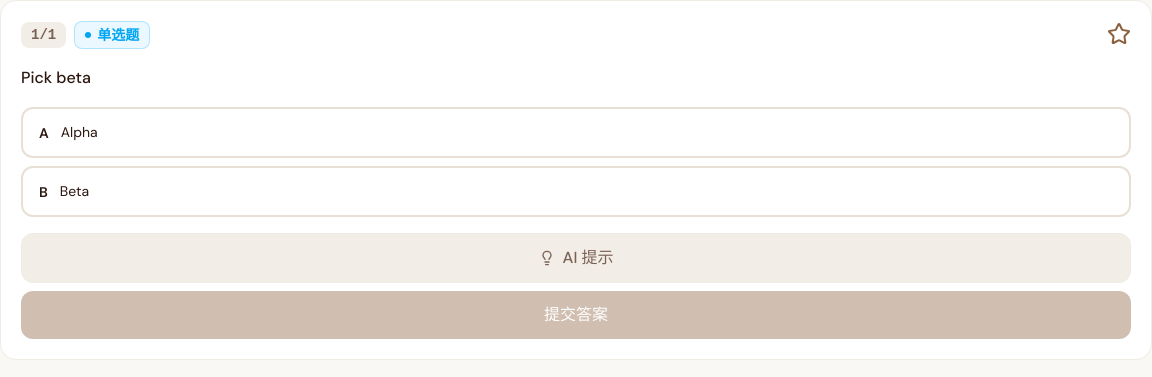
QuestionCard › saves a choice answer and reports the result after submit
The width and height of the screenshot is (1152, 377).
Click the button with aria-label "B. Beta": click(43, 192) [21,166,1131,217]
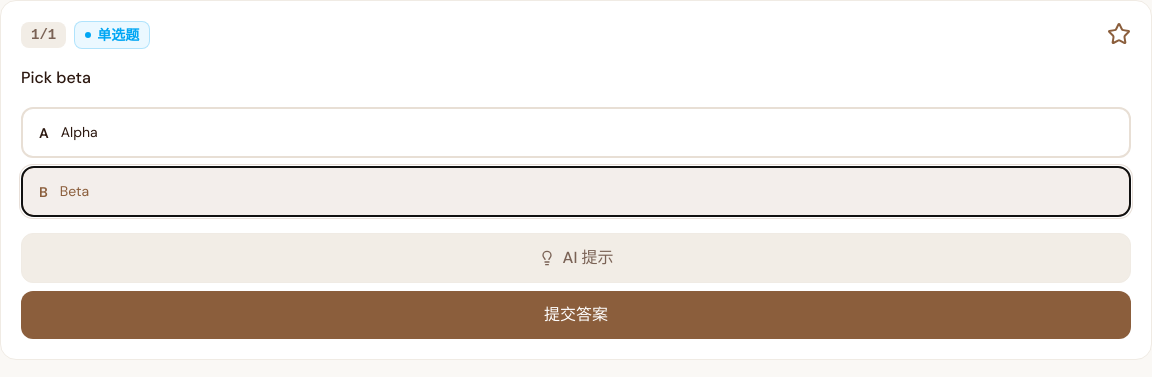
Click the button "提交答案": click(576, 314) [21,290,1131,338]
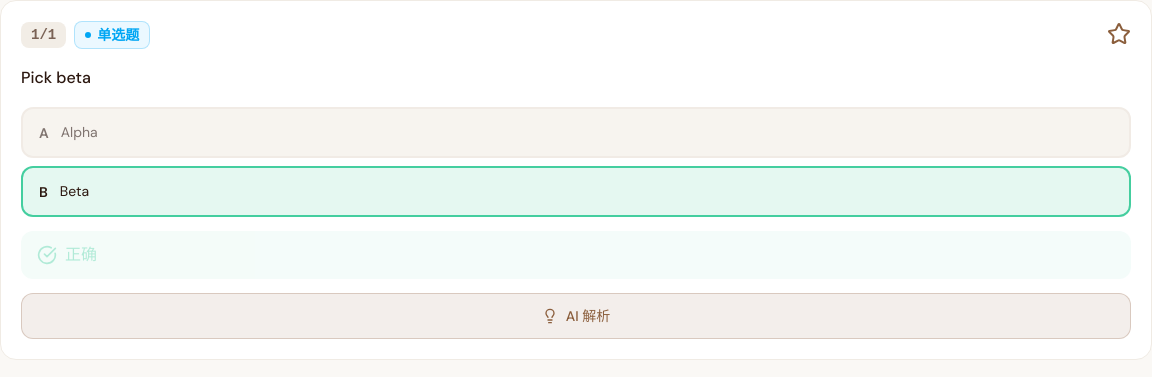
Expected: the text "正确" is shown, [65,242,97,266]
